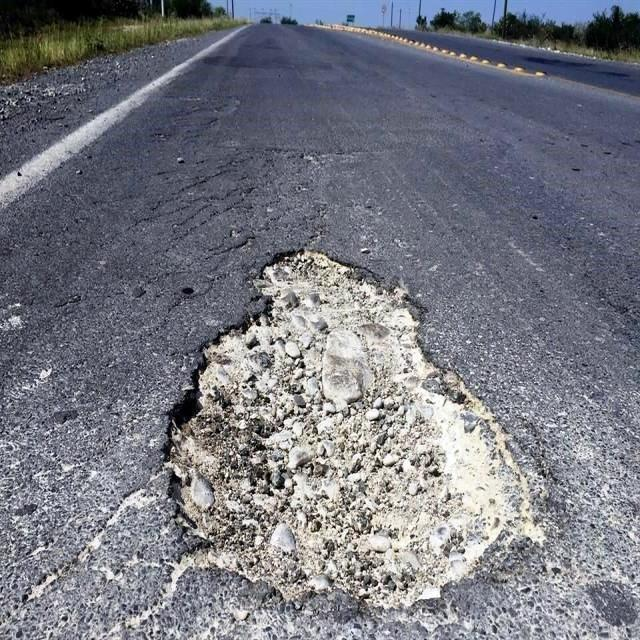Pothole: (168, 251, 542, 607)
